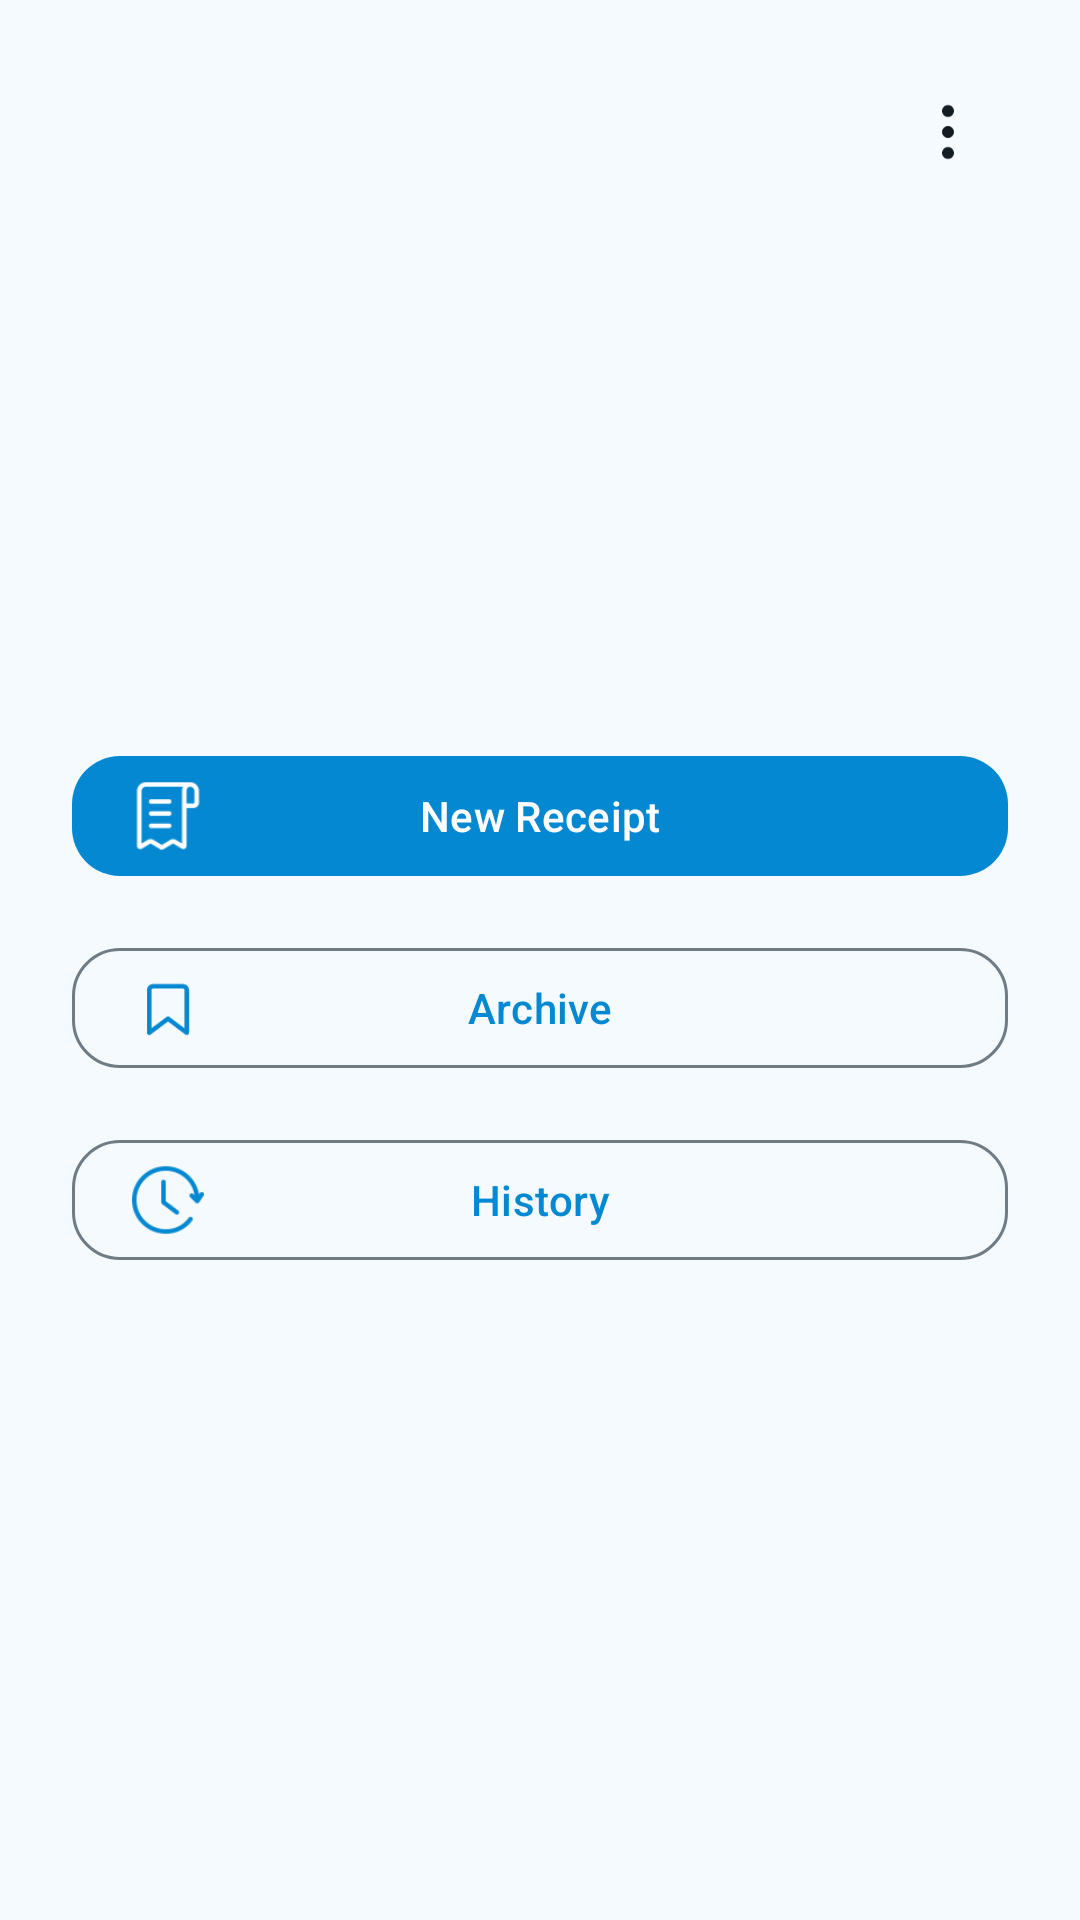

Screen size 1080 × 1920. Icon name, then its center in pixels as (x,y):
More options: (948,132)
